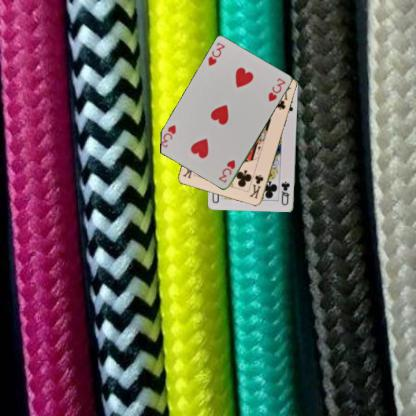3h: (215, 157, 237, 184), (205, 40, 227, 67)
Kc: (247, 172, 265, 200)
Qc: (278, 179, 290, 207)
